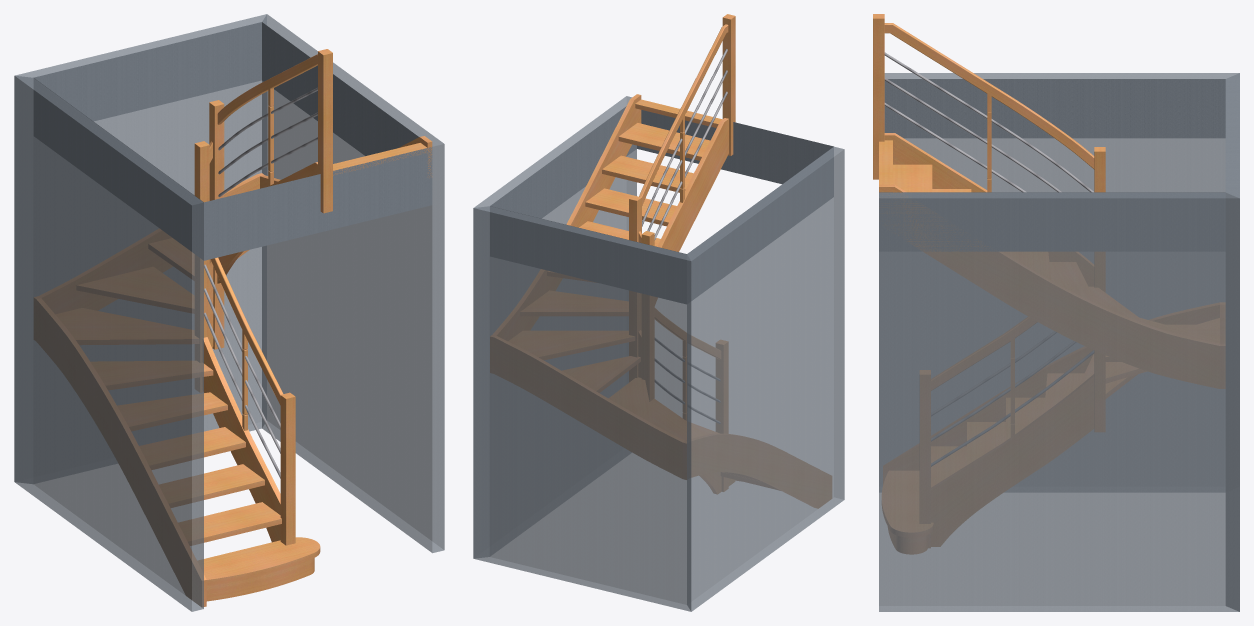
3 views of the same model, side by side, from view 1: azimuth 30°, elevation 25°; view 2: azimuth 150°, elevation 25°; view 3: azimuth 270°, elevation 25° (orthographic). The views are drawn at different scales.
Parts seen in each view (by area): view 1: _x0023_BEGIN_WALLcon_blatap.jpg1110_x002C_3, _x0023_BEGIN_OPENINGcon_blatap.jpg1111, _x0023_TREADcon_bok.jpg1111 (×2), _x0023_STRINGcon_bok.jpg1111 (×2), _x0023_POSTcon_bok.jpg1111, _x0023_HANDRAILcon_bok.jpg1111, _x0023_BOTTOMRAILcon_rostf.jpg1111, _x0023_RISERcon_bok.jpg1111; view 2: _x0023_BEGIN_WALLcon_blatap.jpg1110_x002C_3, _x0023_BEGIN_OPENINGcon_blatap.jpg1111, _x0023_STRINGcon_bok.jpg1111 (×2), _x0023_TREADcon_bok.jpg1111 (×2), _x0023_POSTcon_bok.jpg1111, _x0023_HANDRAILcon_bok.jpg1111, _x0023_BOTTOMRAILcon_rostf.jpg1111; view 3: _x0023_BEGIN_WALLcon_blatap.jpg1110_x002C_3, _x0023_BEGIN_OPENINGcon_blatap.jpg1111, _x0023_STRINGcon_bok.jpg1111 (×2), _x0023_TREADcon_bok.jpg1111 (×2), _x0023_POSTcon_bok.jpg1111, _x0023_HANDRAILcon_bok.jpg1111, _x0023_BOTTOMRAILcon_rostf.jpg1111 (×2), _x0023_RISERcon_bok.jpg1111.
Part boxes in pixels (<box>): _x0023_BEGIN_WALLcon_blatap.jpg1110_x002C_3: <box>14,14,444,611</box>; _x0023_BEGIN_OPENINGcon_blatap.jpg1111: <box>34,22,432,260</box>; _x0023_TREADcon_bok.jpg1111 (×2): <box>56,143,427,584</box>; _x0023_STRINGcon_bok.jpg1111 (×2): <box>34,136,432,606</box>; _x0023_POSTcon_bok.jpg1111: <box>194,49,332,545</box>; _x0023_HANDRAILcon_bok.jpg1111: <box>209,54,317,405</box>; _x0023_BOTTOMRAILcon_rostf.jpg1111: <box>204,87,317,478</box>; _x0023_RISERcon_bok.jpg1111: <box>206,558,314,601</box>; _x0023_BEGIN_WALLcon_blatap.jpg1110_x002C_3: <box>473,96,844,611</box>; _x0023_BEGIN_OPENINGcon_blatap.jpg1111: <box>490,106,833,303</box>; _x0023_STRINGcon_bok.jpg1111 (×2): <box>490,94,831,508</box>; _x0023_TREADcon_bok.jpg1111 (×2): <box>508,99,779,490</box>; _x0023_POSTcon_bok.jpg1111: <box>629,14,735,491</box>; _x0023_HANDRAILcon_bok.jpg1111: <box>638,24,728,359</box>; _x0023_BOTTOMRAILcon_rostf.jpg1111: <box>642,49,727,423</box>; _x0023_BEGIN_WALLcon_blatap.jpg1110_x002C_3: <box>879,73,1239,611</box>; _x0023_BEGIN_OPENINGcon_blatap.jpg1111: <box>879,79,1225,251</box>; _x0023_STRINGcon_bok.jpg1111 (×2): <box>879,133,1225,546</box>; _x0023_TREADcon_bok.jpg1111 (×2): <box>879,140,1219,537</box>; _x0023_POSTcon_bok.jpg1111: <box>873,14,1105,547</box>; _x0023_HANDRAILcon_bok.jpg1111: <box>884,23,1094,390</box>; _x0023_BOTTOMRAILcon_rostf.jpg1111 (×2): <box>884,52,1093,466</box>; _x0023_RISERcon_bok.jpg1111: <box>888,528,927,554</box>.
Size of what is drawn, in the model's own units: 2.08 by 4.15 by 2.57.
Materials: 9 (9 with a texture image).
